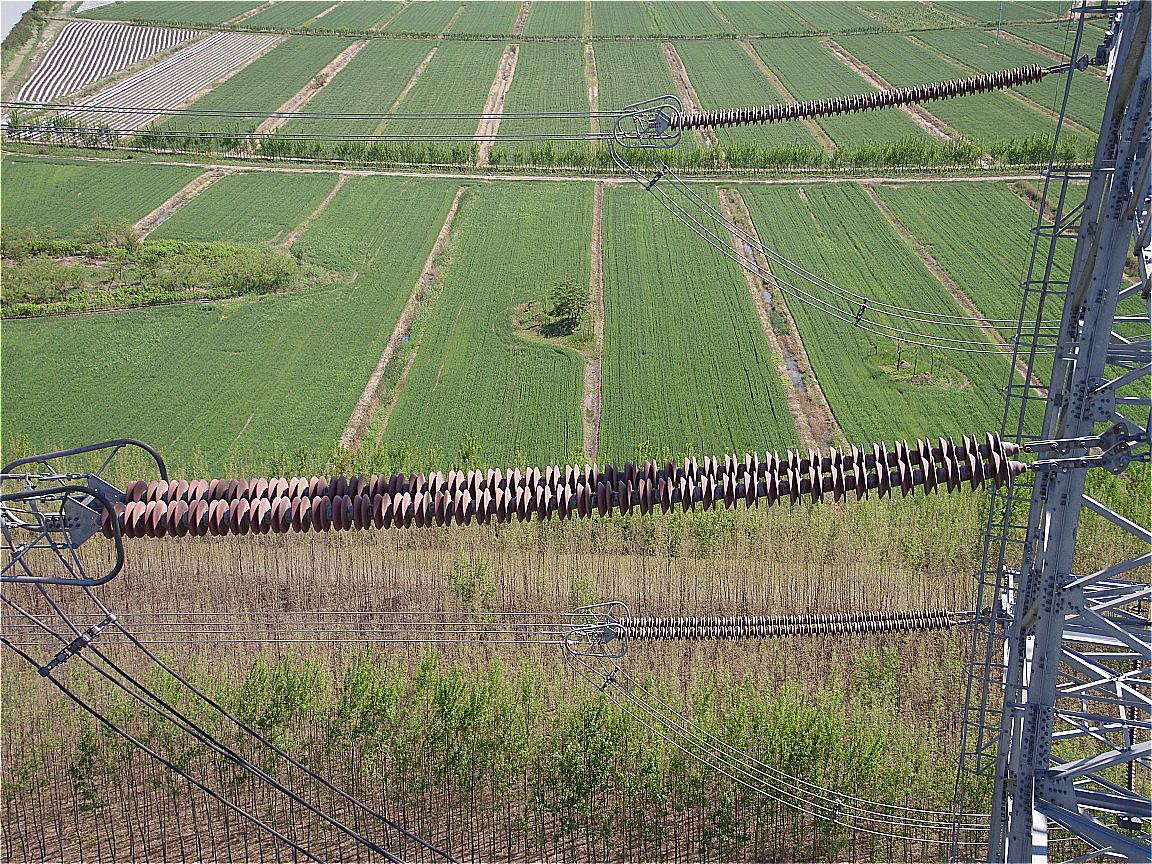insultor1: (101, 429, 1014, 542)
insultor2: (673, 63, 1047, 128), (615, 606, 950, 643)
